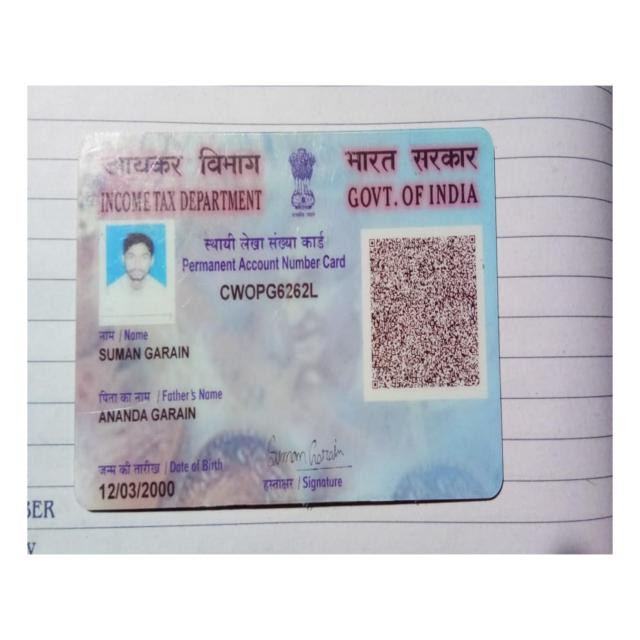pan_card: (76, 136, 499, 503)
